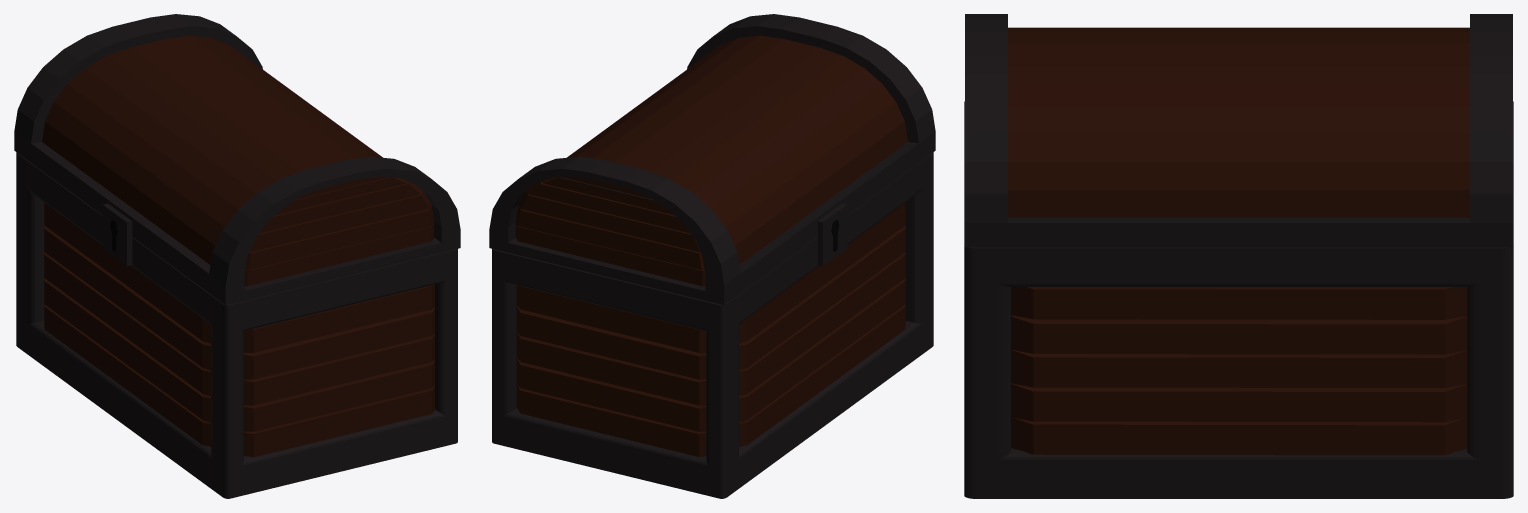
Rendered from Chest_Skeleton.FBX.
The picture shows the model from 3 angles, left to right: view 1: azimuth 30°, elevation 25°; view 2: azimuth 150°, elevation 25°; view 3: azimuth 270°, elevation 25°; orthographic projection. The views are drawn at different scales.
Parts seen in each view (by area): view 1: Chest; view 2: Chest; view 3: Chest.
Part boxes in pixels (box(x1,y1,x2,y2)): Chest: box(14, 14, 460, 498); Chest: box(489, 14, 935, 498); Chest: box(964, 14, 1513, 498).
Size of the model in its own units: 261 by 397 by 304.
